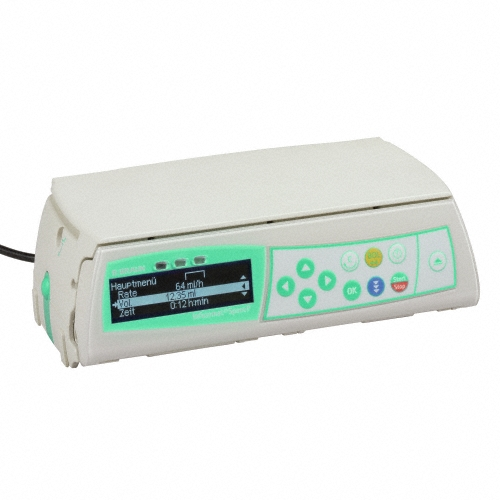BBraun Infusomat Space: (27, 136, 486, 370)
